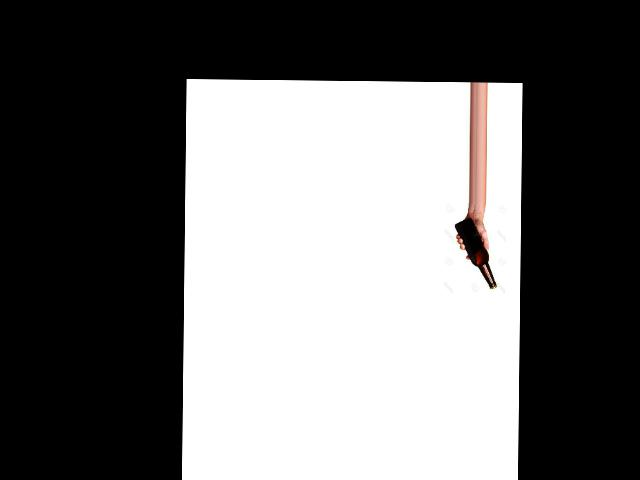beer: (454, 218, 498, 289)
